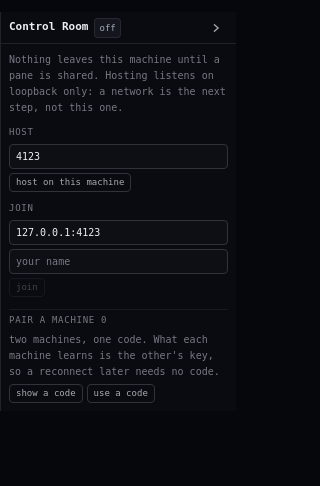
Test case: pairing from the dock › fills both answers from the line the other side sent
Click the button "use a code" at (121, 393), box [87,384,155,403]
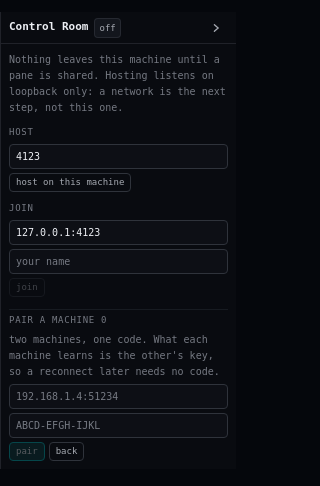
Type "10.0.0.7:4123 ABCD-EFGH-JKMN" into the field named "Their address" at (118, 396), box [9,384,228,408]
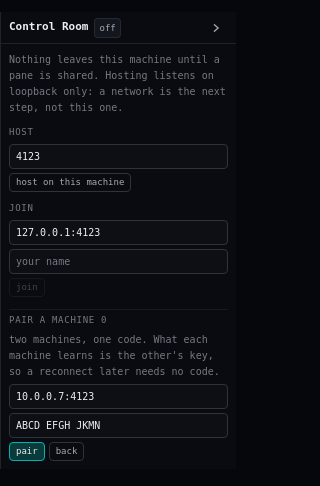
Expected: the field named "Their address" holds "10.0.0.7:4123", [9,384,228,408]
Expected: the field named "Pairing code" holds "ABCD EFGH JKMN", [9,412,228,438]
